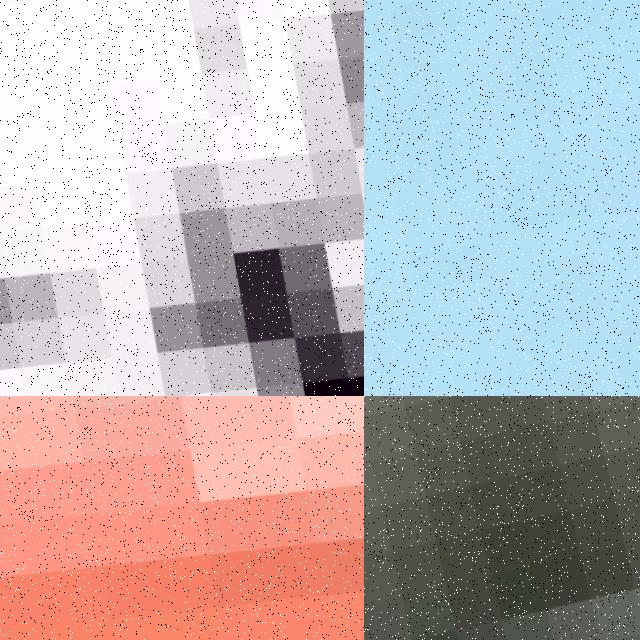0: (0, 0, 364, 396)
drone: (0, 396, 364, 640)
